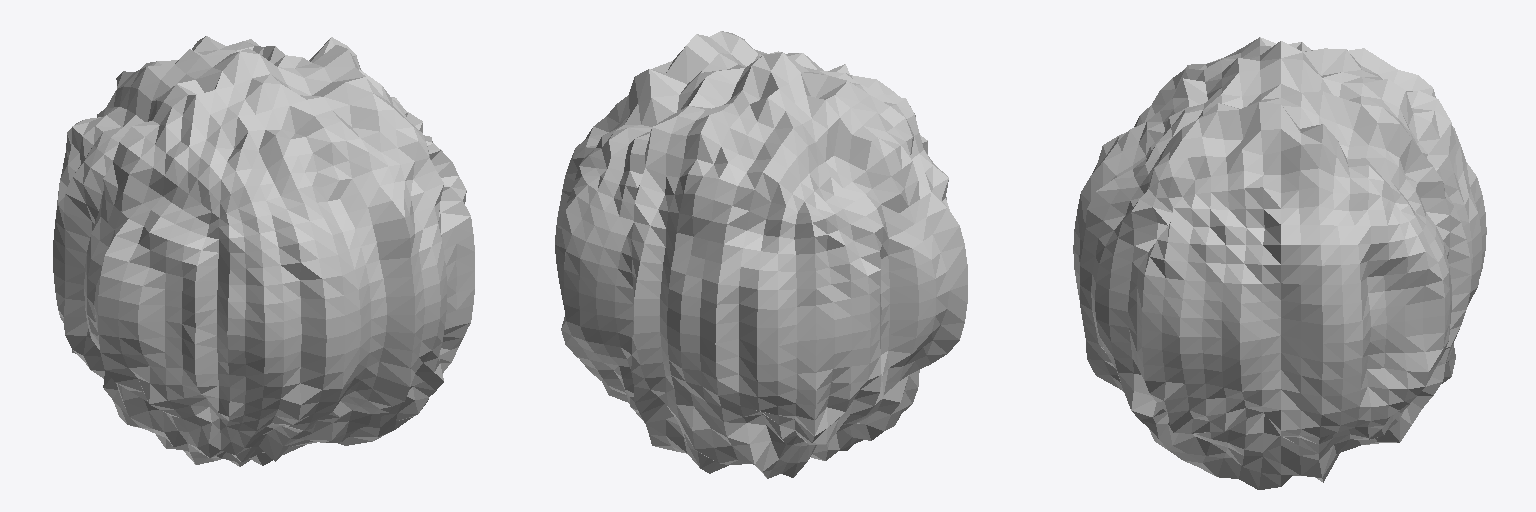
Rendered from asteroid181.obj.
3 renders of one model, left to right at view 1: azimuth 30°, elevation 25°; view 2: azimuth 150°, elevation 25°; view 3: azimuth 270°, elevation 25°, orthographic.
Visible parts, largest first — view 1: Cube_Cube.002; view 2: Cube_Cube.002; view 3: Cube_Cube.002.
Boxes of the visible parts, x1,y1,x2,y2 form: Cube_Cube.002: [53, 36, 474, 466]; Cube_Cube.002: [555, 31, 967, 478]; Cube_Cube.002: [1073, 37, 1486, 489].
Size of the model in its own units: 1.73 by 1.92 by 1.73.